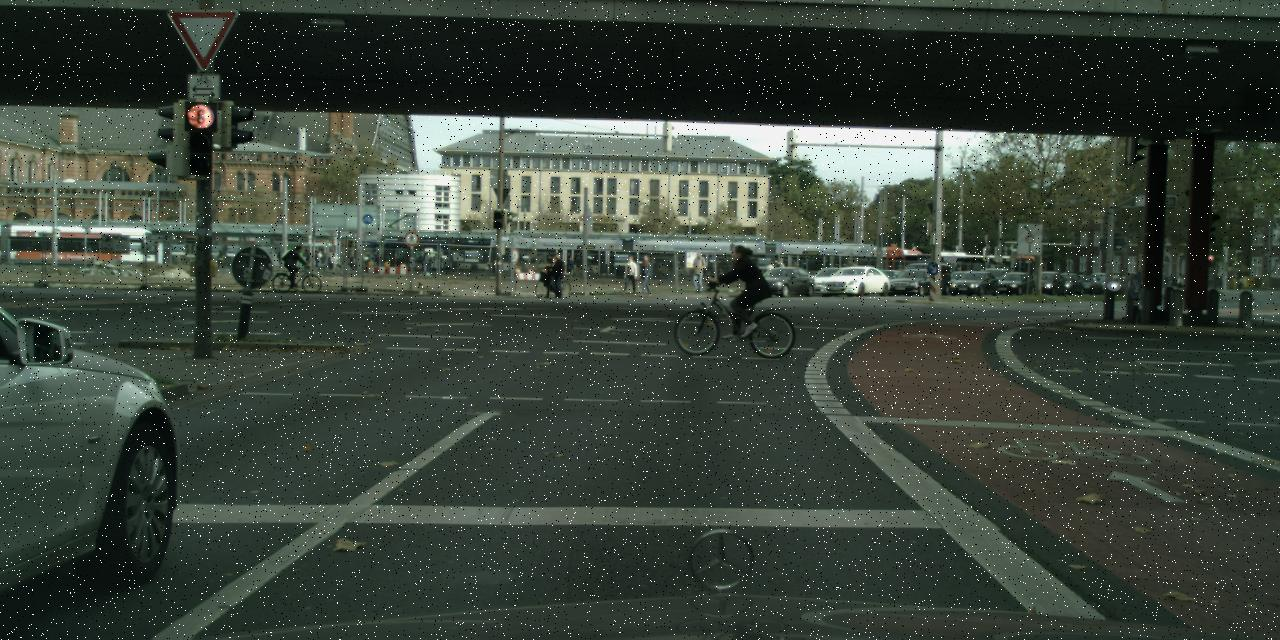ped: (719, 245, 756, 337), (538, 253, 565, 299), (637, 254, 654, 296), (690, 250, 706, 290), (621, 254, 637, 294), (288, 246, 302, 282), (766, 258, 785, 270)
